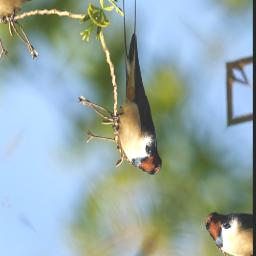Swallow: (57, 0, 224, 183)
